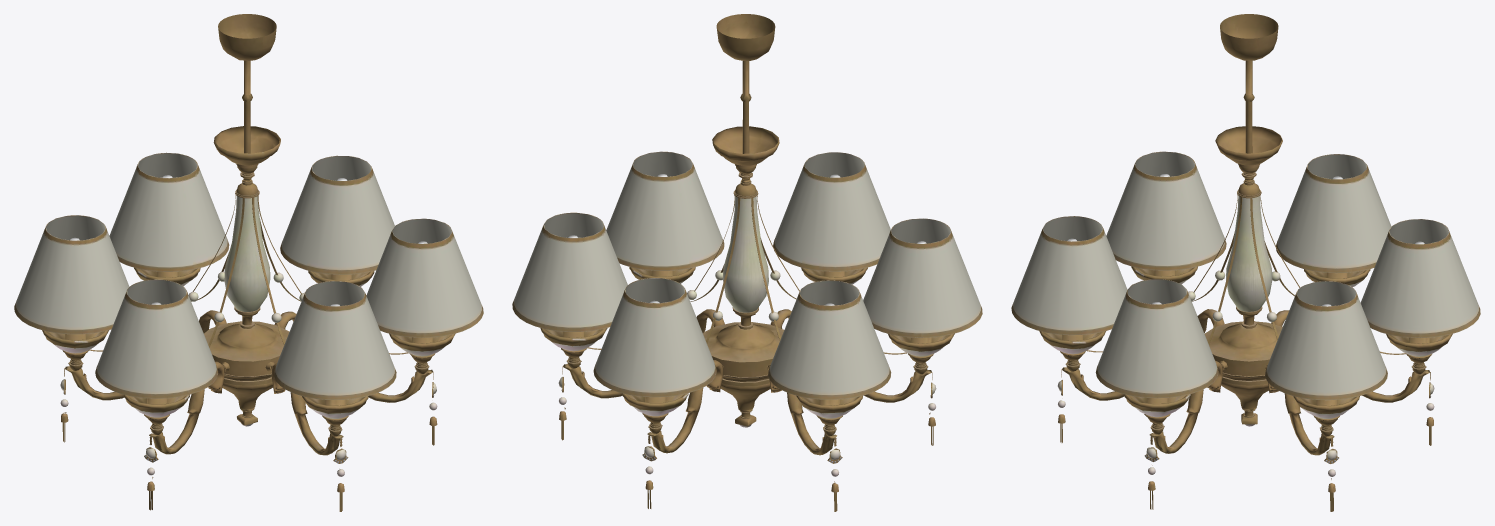
File: chandelier.glb
3 renders of one model, left to right at view 1: azimuth 30°, elevation 25°; view 2: azimuth 150°, elevation 25°; view 3: azimuth 270°, elevation 25°, orthographic.
Visible parts, largest first — view 1: Chandelier_01; view 2: Chandelier_01; view 3: Chandelier_01.
Part boxes in pixels (left/top/right/bottom): Chandelier_01: left=14, top=14, right=483, bottom=511; Chandelier_01: left=512, top=14, right=982, bottom=511; Chandelier_01: left=1011, top=14, right=1480, bottom=511.
Size of the model in its own units: 0.7465 by 0.7982 by 0.8155.
2 materials, 1 textured.
